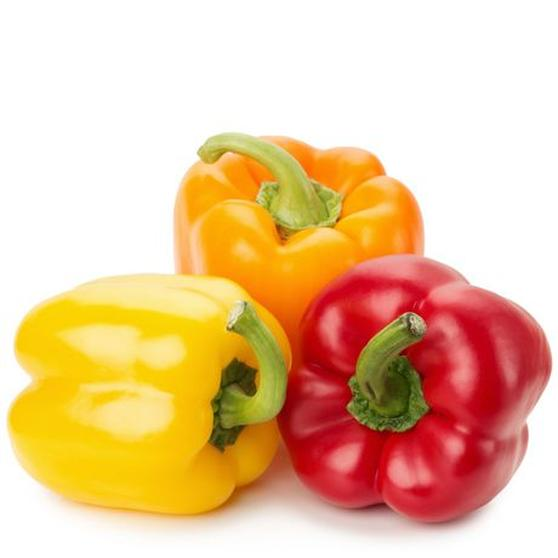pepper: (280, 246, 551, 524)
